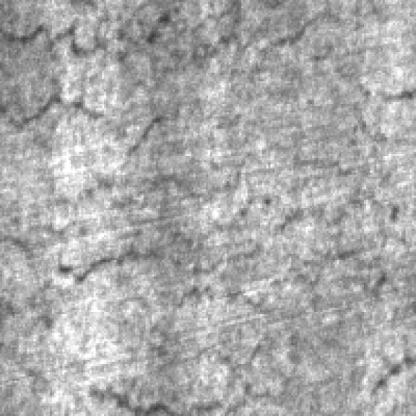crazing: (0, 92, 262, 304), (36, 195, 376, 325), (0, 10, 304, 134), (110, 0, 366, 75)
